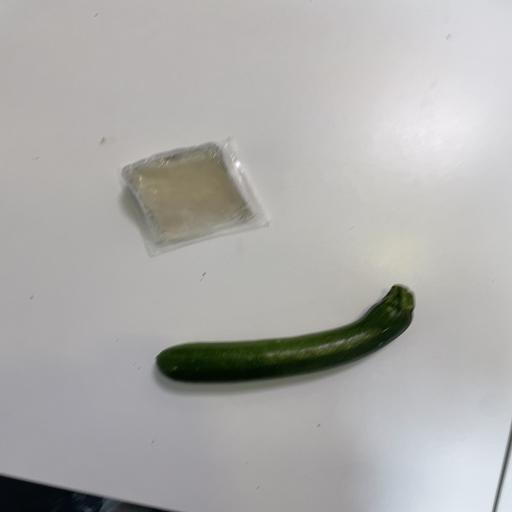courgette: (150, 280, 424, 394)
cured_goat_cheese: (114, 139, 264, 258)
